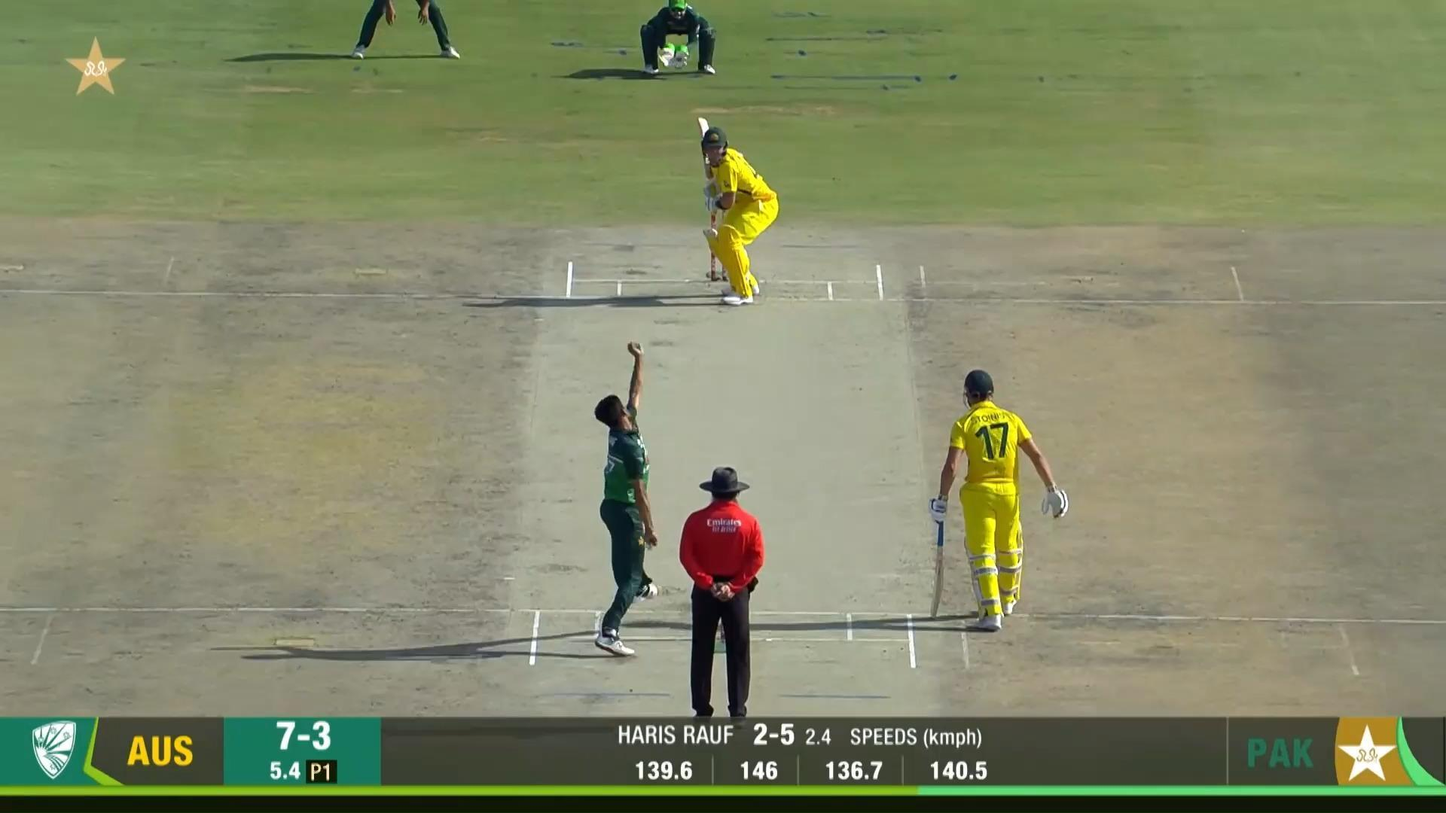BM 1: (697, 113, 779, 308)
BO: (592, 338, 668, 657)
